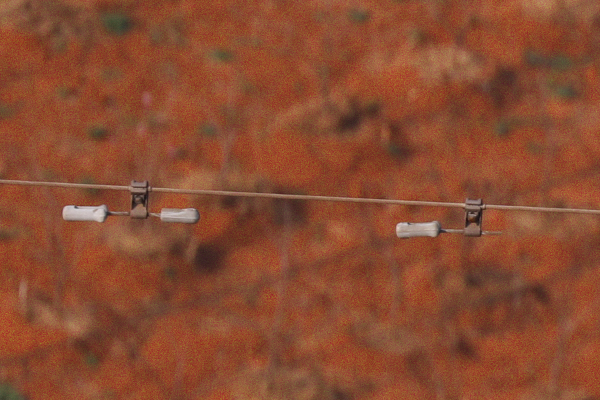damper: (60, 178, 202, 226)
damper_defect: (391, 194, 506, 240)
